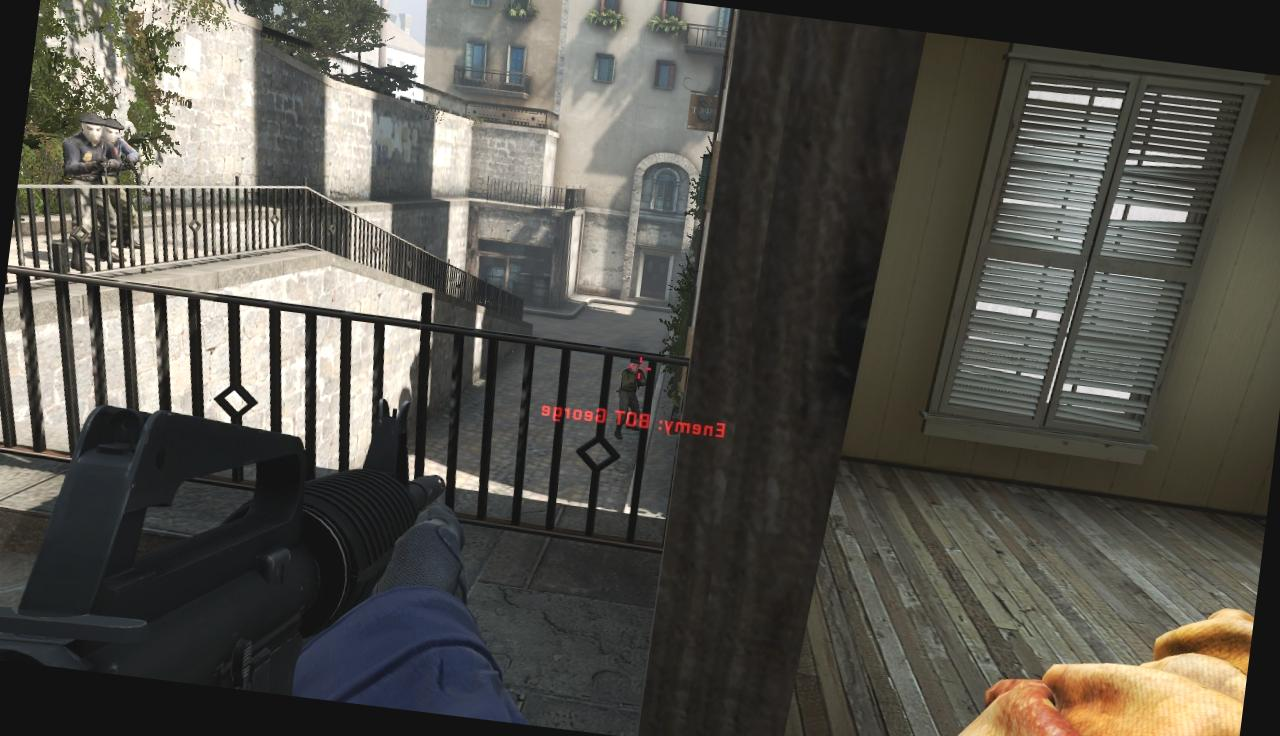rifle: (0, 348, 460, 712)
tt: (613, 357, 644, 441)
tthead: (628, 359, 642, 374)
